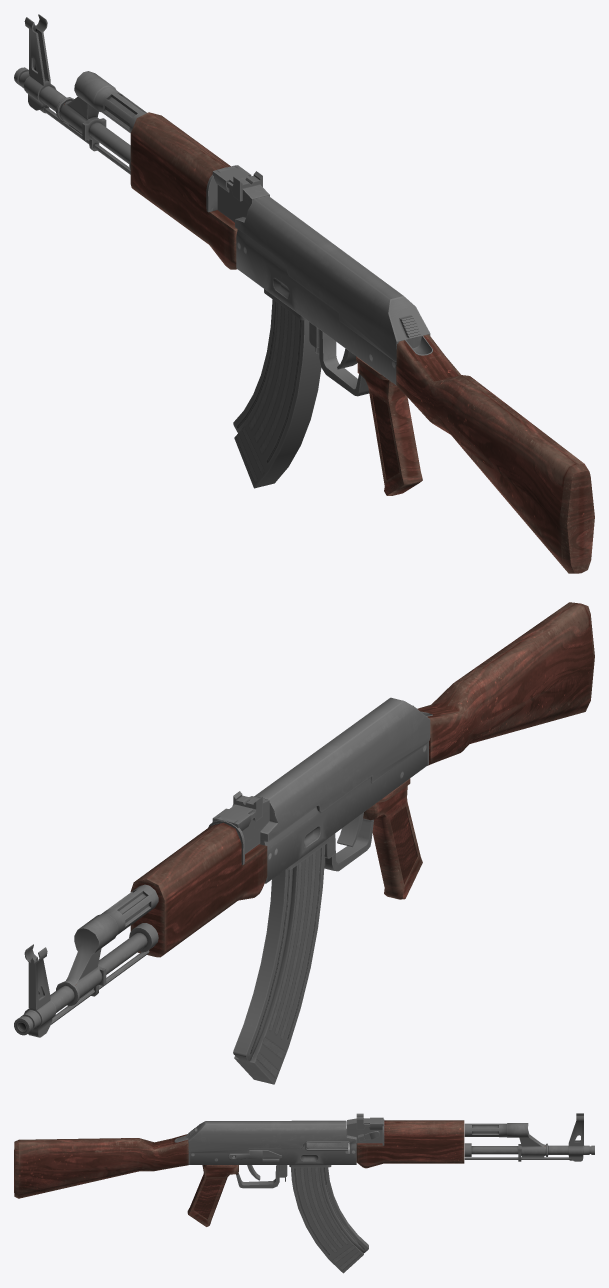
The picture shows the model from 3 angles, top to bottom: view 1: azimuth 30°, elevation 25°; view 2: azimuth 150°, elevation 25°; view 3: azimuth 270°, elevation 25°; orthographic projection. The views are drawn at different scales.
Parts seen in each view (by area): view 1: AK47_LOD0; view 2: AK47_LOD0; view 3: AK47_LOD0.
Boxes of the visible parts, <box> form: AK47_LOD0: <box>14,14,594,573</box>; AK47_LOD0: <box>14,602,594,1084</box>; AK47_LOD0: <box>14,1113,594,1273</box>.
Size of what is drawn, in the model's own units: 52.19 by 278 by 937.
